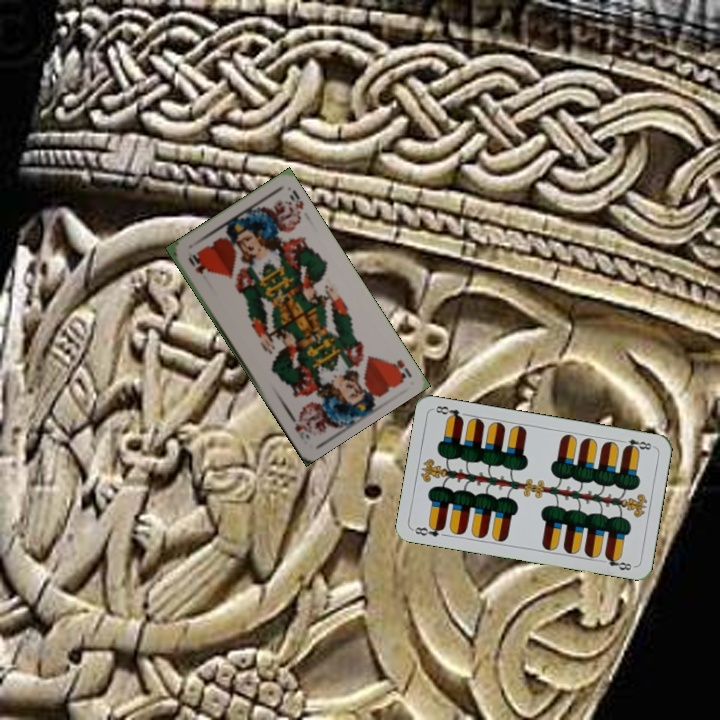E8: (616, 435, 656, 453), (410, 521, 447, 539)
HO: (387, 355, 414, 384), (184, 249, 206, 277)
